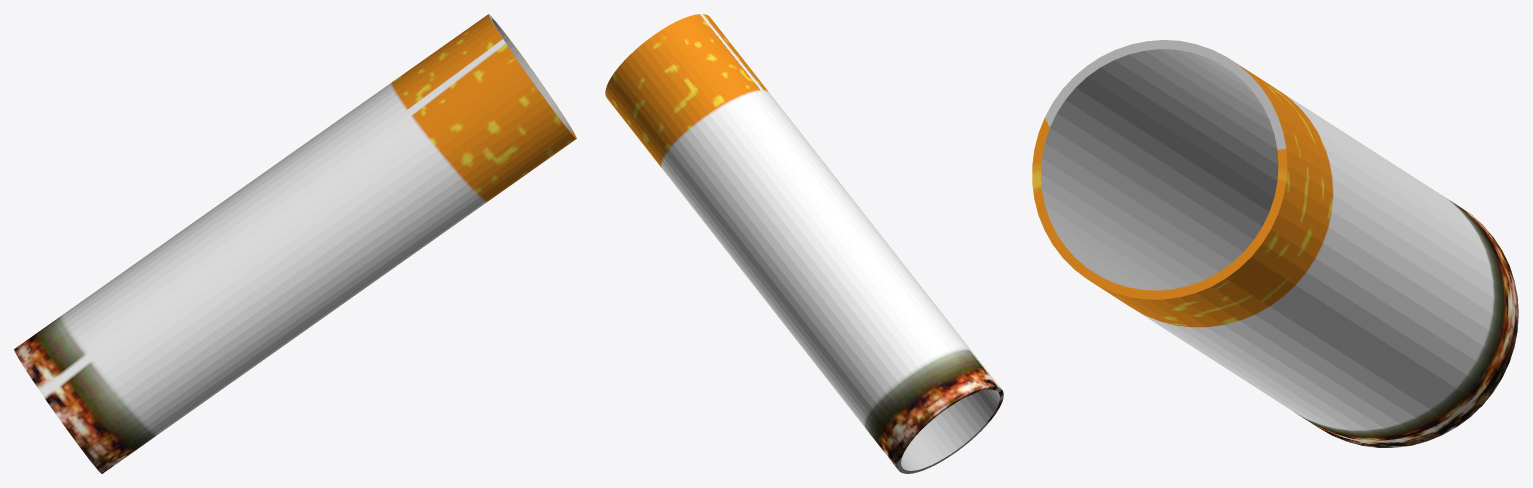
File: cigarro1.dae
3 views of the same model, side by side, from view 1: azimuth 30°, elevation 25°; view 2: azimuth 150°, elevation 25°; view 3: azimuth 270°, elevation 25° (orthographic). The views are drawn at different scales.
Visible parts, largest first — view 1: node; view 2: node; view 3: node.
Boxes of the visible parts, bbox=[...] form: node: bbox=[14, 14, 576, 473]; node: bbox=[605, 14, 1003, 473]; node: bbox=[1032, 40, 1518, 447].
Size of the model in its own units: 35.29 by 27.93 by 17.85.
